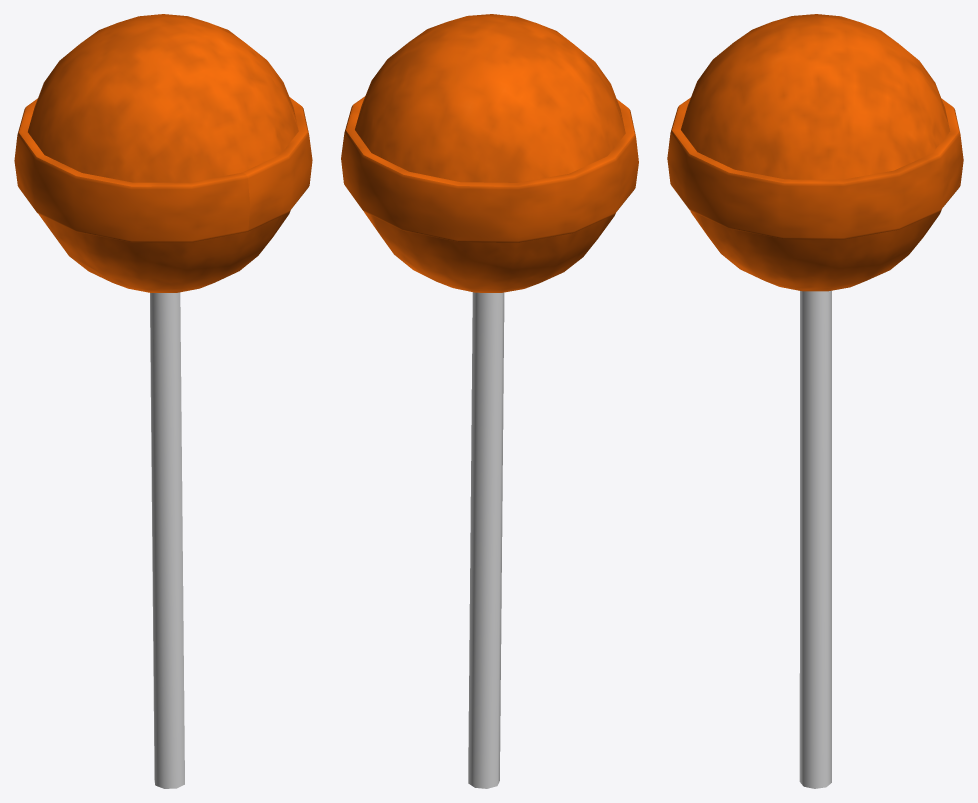
File: PERMEN G.fbx
3 views of the same model, side by side, from view 1: azimuth 30°, elevation 25°; view 2: azimuth 150°, elevation 25°; view 3: azimuth 270°, elevation 25° (orthographic).
Parts seen in each view (by area): view 1: Diorama.033; view 2: Diorama.033; view 3: Diorama.033.
Boxes of the visible parts, x1,y1,x2,y2 form: Diorama.033: [14, 14, 312, 788]; Diorama.033: [341, 14, 638, 788]; Diorama.033: [667, 14, 963, 788].
Bounding box in the file's own units: 314 × 112 × 112.
Materials: 1 (1 with a texture image).
